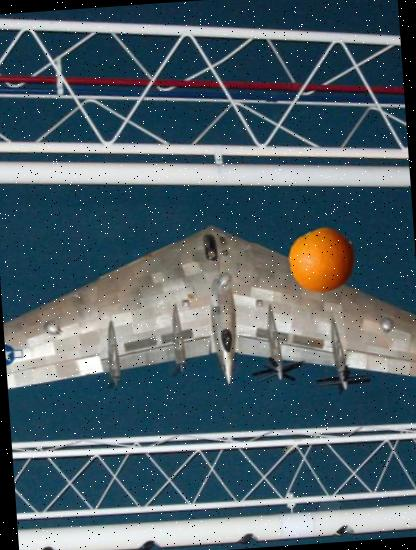Orange: (287, 225, 357, 295)
